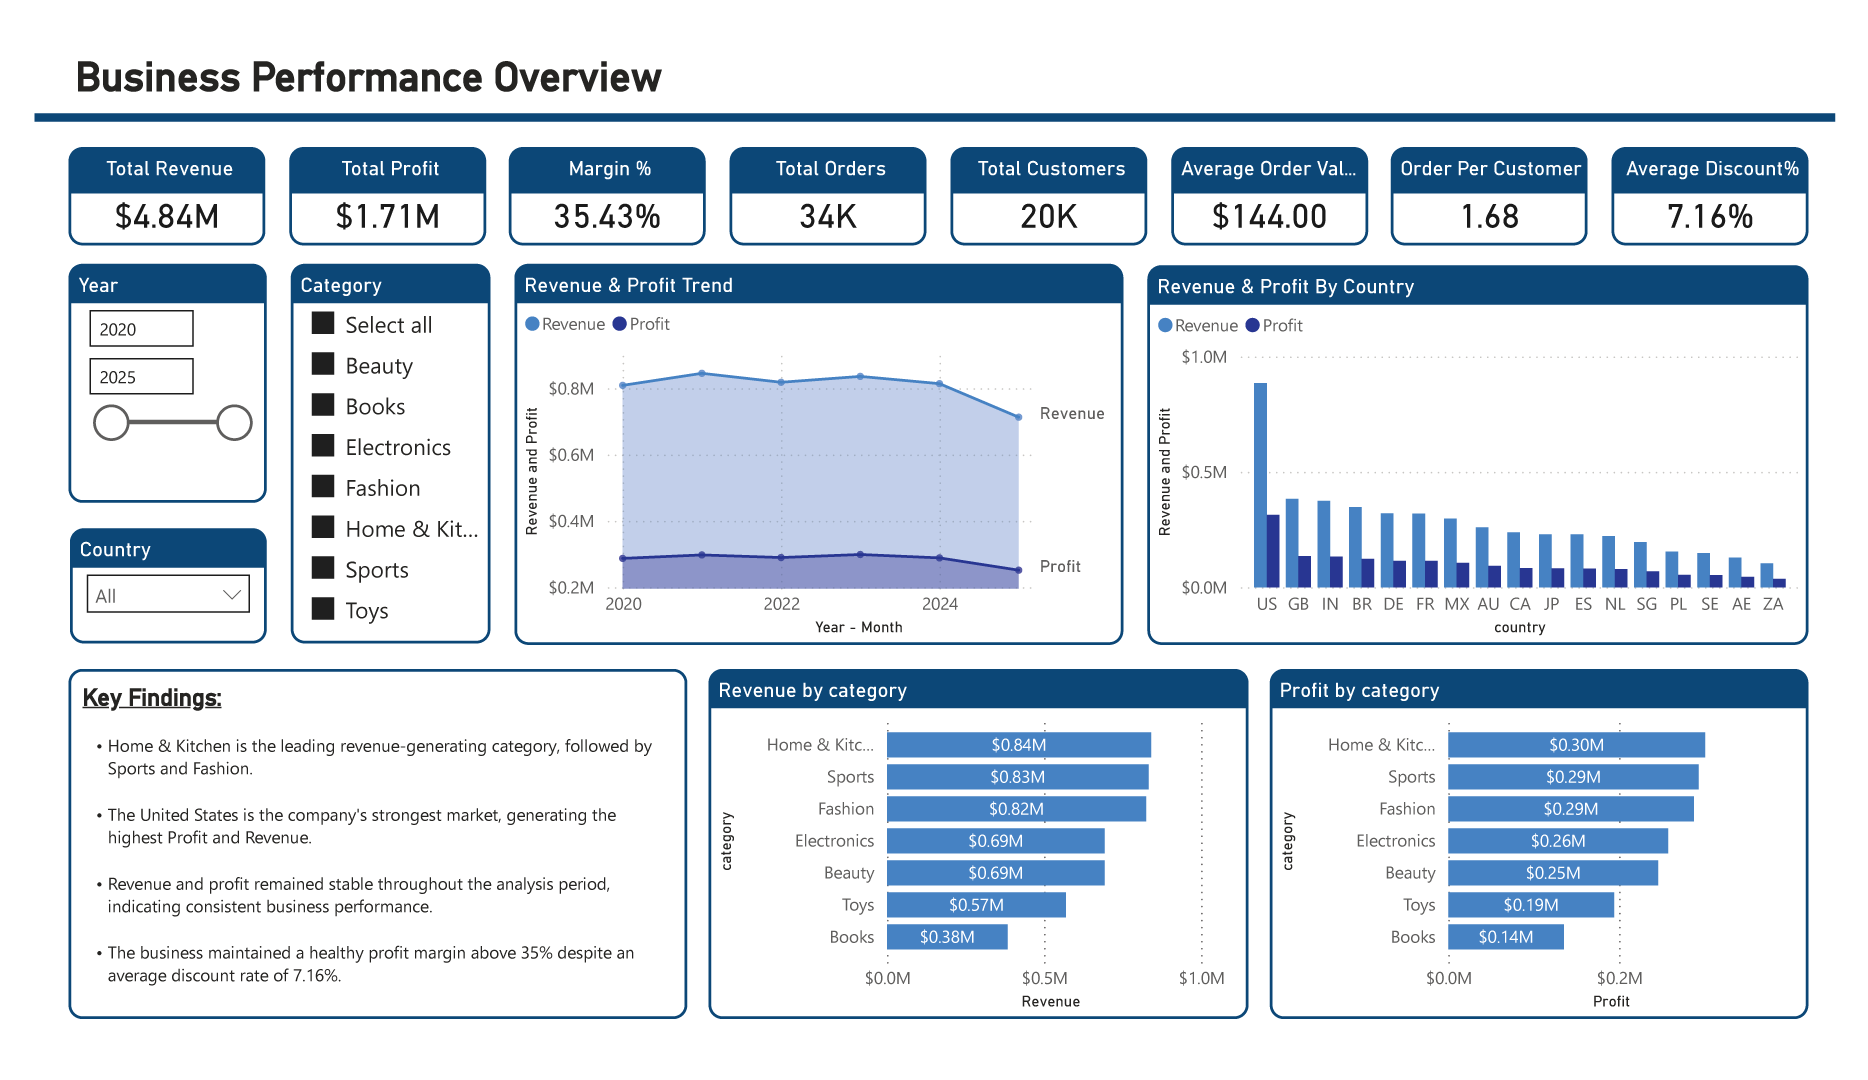

The dashboard page shown, as its layout file describes it:
{"tool":"powerbi","page":{"name":"1 - Executive Overview","canvas":[1280,720],"ordinal":0},"visuals":[{"type":"card","title":"Total Revenue","fields":{"Values":["Measures_Table.KPI - Total Revenue"]},"box":[24,80,140,70],"z":0},{"type":"card","title":"Total Profit","fields":{"Values":["Measures_Table.KPI - Total_profit"]},"box":[180.7,80,140,70],"z":1000},{"type":"card","title":"Average Order Value","fields":{"Values":["Measures_Table.KPI - Average_Order_Value"]},"box":[807.6,80,140,70],"z":2000},{"type":"card","title":"Total Orders","fields":{"Values":["Measures_Table.KPI - Total_orders"]},"box":[494.1,80,140,70],"z":3000},{"type":"card","title":"Margin %","fields":{"Values":["Measures_Table.Pricing - Margin%"]},"box":[337.4,80,140,70],"z":4000},{"type":"card","title":"Total Customers","fields":{"Values":["Measures_Table.KPI - Total_Customers"]},"box":[650.9,80,140,70],"z":5000},{"type":"textbox","box":[24,8,859,51],"z":6000},{"type":"shape","box":[0,46,1280,26],"z":7000},{"type":"lineChart","title":"Revenue & Profit Trend","fields":{"Y":["Measures_Table.KPI - Total_Revenue","Measures_Table.KPI - Total_profit"],"Category":["Date_Table.Year"]},"box":[340.6,162.7,433.6,270.9],"z":8000},{"type":"slicer","title":"Year","fields":{"Values":["Date_Table.Year"]},"box":[23.6,162.7,141.8,170],"z":9000},{"type":"slicer","title":"Country","fields":{"Values":["customers.country"]},"box":[25.5,350.9,140,81.8],"z":10000},{"type":"slicer","title":"Category","fields":{"Values":["products.category"]},"box":[182.1,162.7,141.8,270],"z":11000},{"type":"card","title":"Average Discount%","fields":{"Values":["Measures_Table.Pricing - Average Discount"]},"box":[1121,80,140,70],"z":12000},{"type":"textbox","box":[23.6,450.9,440,249.1],"z":13000},{"type":"card","title":"Order Per Customer","fields":{"Values":["Measures_Table.Customer - Order Per Customer"]},"box":[964.3,80,140,70],"z":14000},{"type":"clusteredBarChart","title":"Profit by category","fields":{"Category":["products.category"],"Y":["Measures_Table.KPI - Total_profit"]},"box":[878.2,450.9,382.7,249.1],"z":15000},{"type":"clusteredBarChart","title":"Revenue by category","fields":{"Category":["products.category"],"Y":["Measures_Table.KPI - Total_Revenue"]},"box":[479.1,450.9,383.6,249.1],"z":16000},{"type":"clusteredColumnChart","title":"Revenue & Profit By Country","fields":{"Y":["Measures_Table.KPI - Total_Revenue","Measures_Table.KPI - Total_profit"],"Category":["customers.country"]},"box":[790.9,163.6,470,270],"z":17000}]}

Visuals, with their boxes in screenshot pixels (x1, y1, x2, y2), scaled from the page's 1280x720 canvas onto the 1868x1080 screenshot:
"Total Revenue" card: crop(35, 120, 239, 225)
"Total Profit" card: crop(264, 120, 468, 225)
"Average Order Value" card: crop(1179, 120, 1383, 225)
"Total Orders" card: crop(721, 120, 925, 225)
"Margin %" card: crop(492, 120, 697, 225)
"Total Customers" card: crop(950, 120, 1154, 225)
textbox: crop(35, 12, 1289, 88)
shape: crop(0, 69, 1867, 108)
"Revenue & Profit Trend" lineChart: crop(497, 244, 1130, 650)
"Year" slicer: crop(34, 244, 241, 499)
"Country" slicer: crop(37, 526, 242, 649)
"Category" slicer: crop(266, 244, 473, 649)
"Average Discount%" card: crop(1636, 120, 1840, 225)
textbox: crop(34, 676, 677, 1050)
"Order Per Customer" card: crop(1407, 120, 1612, 225)
"Profit by category" clusteredBarChart: crop(1282, 676, 1840, 1050)
"Revenue by category" clusteredBarChart: crop(699, 676, 1259, 1050)
"Revenue & Profit By Country" clusteredColumnChart: crop(1154, 245, 1840, 650)
